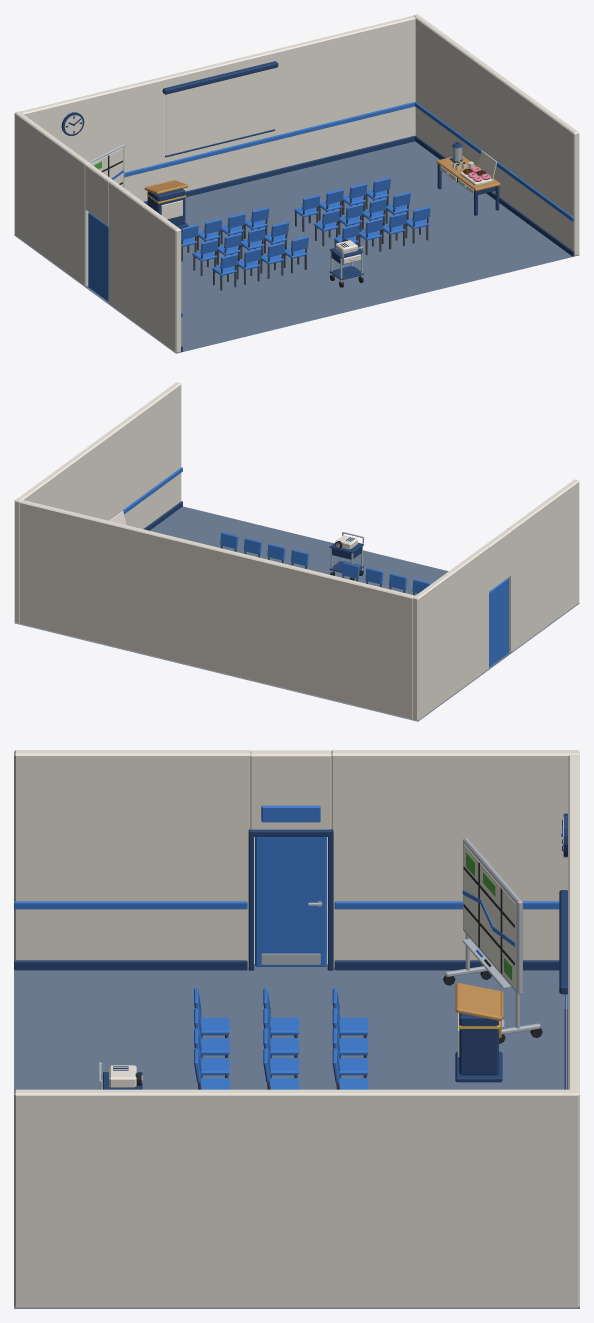
File: police-briefing-room.glb
3 views of the same model, one above another, from view 1: azimuth 30°, elevation 25°; view 2: azimuth 150°, elevation 25°; view 3: azimuth 270°, elevation 25° (orthographic). The views are drawn at different scales.
Parts seen in each view (by area): view 1: BriefingRoom, Screen, CoffeeTable, Door, Podium, ProjectorCart, Whiteboard, Chair_19, Chair_24, Chair_18, Chair_20, Chair_22 (+14 smaller); view 2: BriefingRoom, Door, ProjectorCart; view 3: BriefingRoom, Door, Whiteboard, Podium, ProjectorCart, Chair_01, Chair_09, Chair_17, Chair_03, Chair_02.
Boxes of the visible parts, bbox=[...] form: BriefingRoom: bbox=[14, 14, 579, 353]; Screen: bbox=[166, 68, 273, 155]; CoffeeTable: bbox=[436, 142, 500, 215]; Door: bbox=[88, 212, 108, 301]; Podium: bbox=[144, 180, 188, 228]; ProjectorCart: bbox=[329, 239, 364, 287]; Whiteboard: bbox=[88, 144, 124, 187]; Chair_19: bbox=[260, 242, 285, 278]; Chair_24: bbox=[405, 206, 430, 243]; Chair_18: bbox=[236, 247, 261, 284]; Chair_20: bbox=[283, 236, 308, 273]; Chair_22: bbox=[358, 218, 383, 255]; BriefingRoom: bbox=[14, 382, 579, 721]; Door: bbox=[489, 577, 508, 666]; ProjectorCart: bbox=[329, 532, 364, 580]; BriefingRoom: bbox=[14, 750, 579, 1308]; Door: bbox=[255, 837, 326, 966]; Whiteboard: bbox=[443, 837, 542, 1043]; Podium: bbox=[455, 983, 503, 1082]; ProjectorCart: bbox=[99, 1062, 142, 1089]; Chair_01: bbox=[332, 988, 368, 1037]; Chair_09: bbox=[263, 988, 298, 1037]; Chair_17: bbox=[194, 988, 229, 1037]; Chair_03: bbox=[332, 1028, 368, 1077]; Chair_02: bbox=[332, 1008, 368, 1057].
Bounding box in the file's own units: 41.2 × 12 × 28.6.
